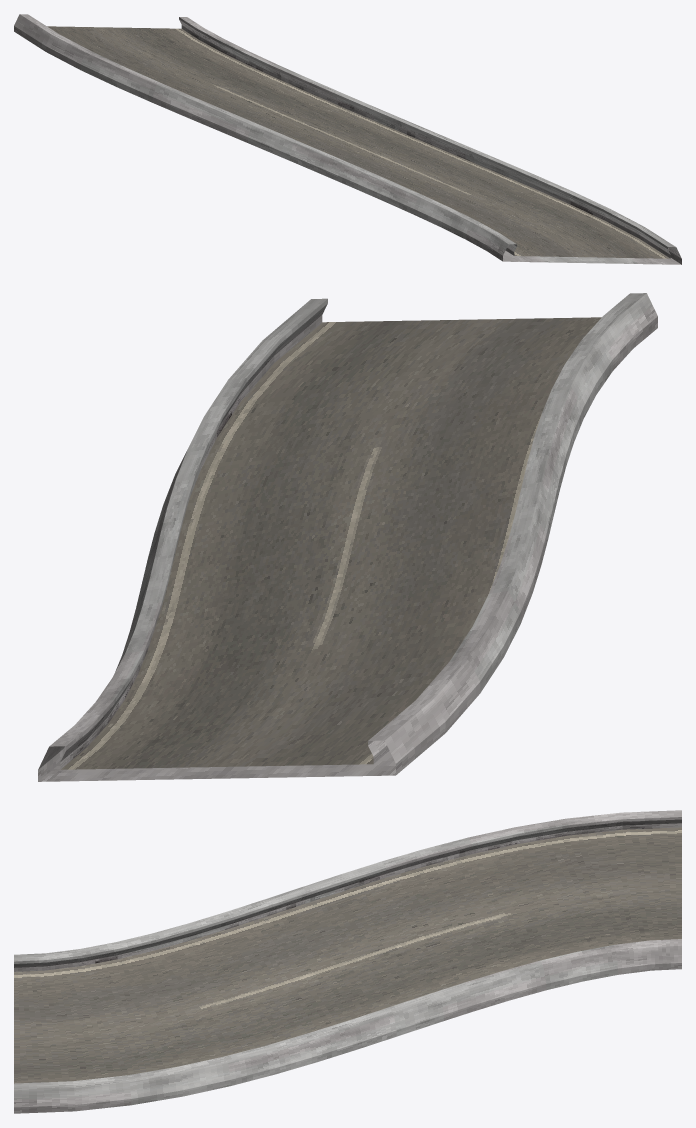
File: chicane-left1x3.glb
3 renders of one model, top to bottom at view 1: azimuth 30°, elevation 25°; view 2: azimuth 150°, elevation 25°; view 3: azimuth 270°, elevation 25°, orthographic. The views are drawn at different scales.
Parts seen in each view (by area): view 1: road-Chicane-HalfBankedRight-HalfBankedRight-Up1-Left1-Size3; view 2: road-Chicane-HalfBankedRight-HalfBankedRight-Up1-Left1-Size3; view 3: road-Chicane-HalfBankedRight-HalfBankedRight-Up1-Left1-Size3.
Boxes of the visible parts, <box> form: road-Chicane-HalfBankedRight-HalfBankedRight-Up1-Left1-Size3: <box>14,14,681,264</box>; road-Chicane-HalfBankedRight-HalfBankedRight-Up1-Left1-Size3: <box>38,293,657,781</box>; road-Chicane-HalfBankedRight-HalfBankedRight-Up1-Left1-Size3: <box>14,810,681,1113</box>.
Bounding box in the file's own units: 2 × 0.5859 × 3.
2 materials, 2 textured.
